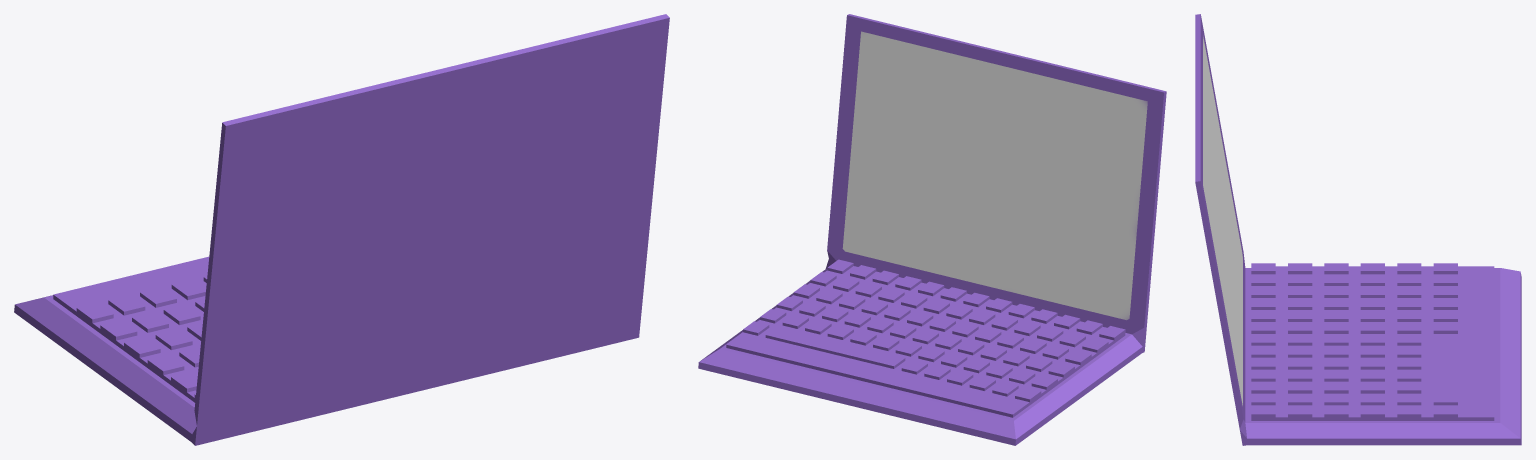
The model's file is cartag.glb.
3 views of the same model, side by side, from view 1: azimuth 30°, elevation 25°; view 2: azimuth 150°, elevation 25°; view 3: azimuth 270°, elevation 25° (orthographic). The views are drawn at different scales.
Visible parts, largest first — view 1: Plane; view 2: Plane; view 3: Plane.
Part boxes in pixels (x1,y1,x2,y2): Plane: [14, 14, 669, 445]; Plane: [698, 14, 1166, 445]; Plane: [1195, 14, 1521, 445].
Size of the model in its own units: 3.99 by 2.95 by 3.3.
1 material, 1 textured.
